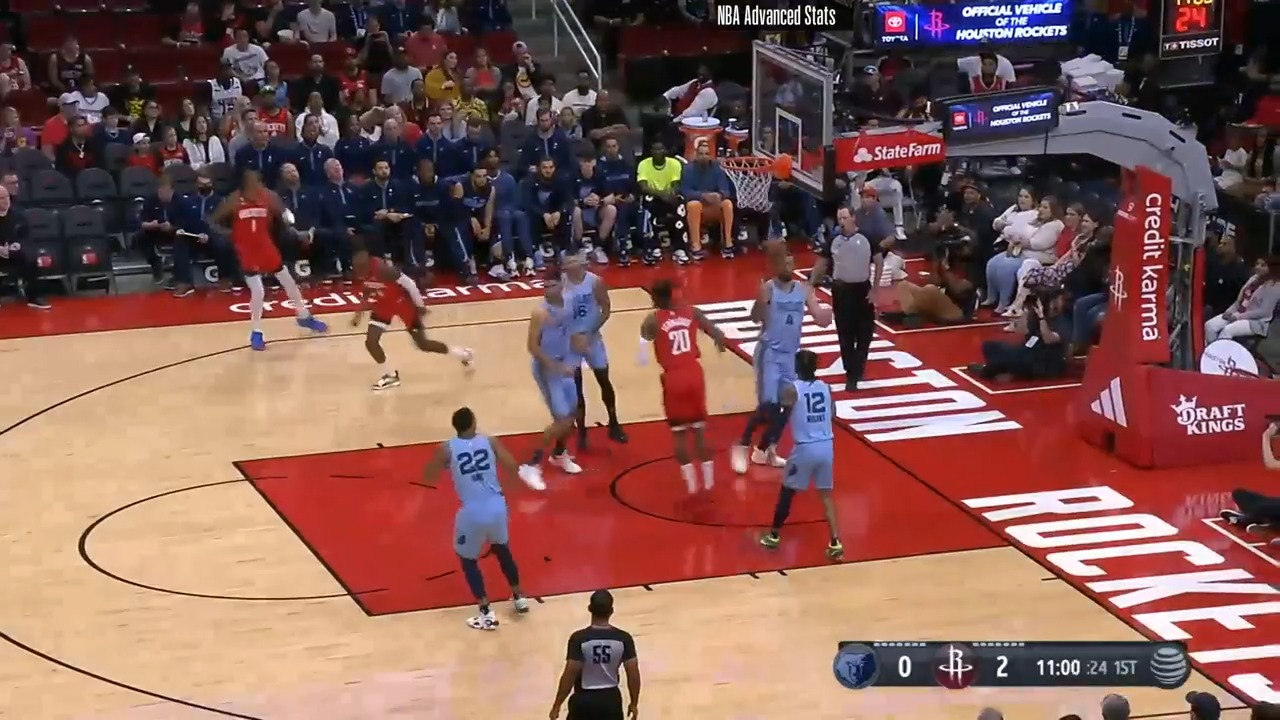net: (721, 146, 798, 217)
player: (635, 277, 747, 516), (417, 403, 532, 633), (758, 346, 857, 566), (213, 167, 328, 352), (730, 242, 815, 479), (347, 246, 478, 394), (521, 271, 591, 491), (557, 249, 627, 454)
referee: (541, 588, 646, 720), (814, 210, 882, 395)
